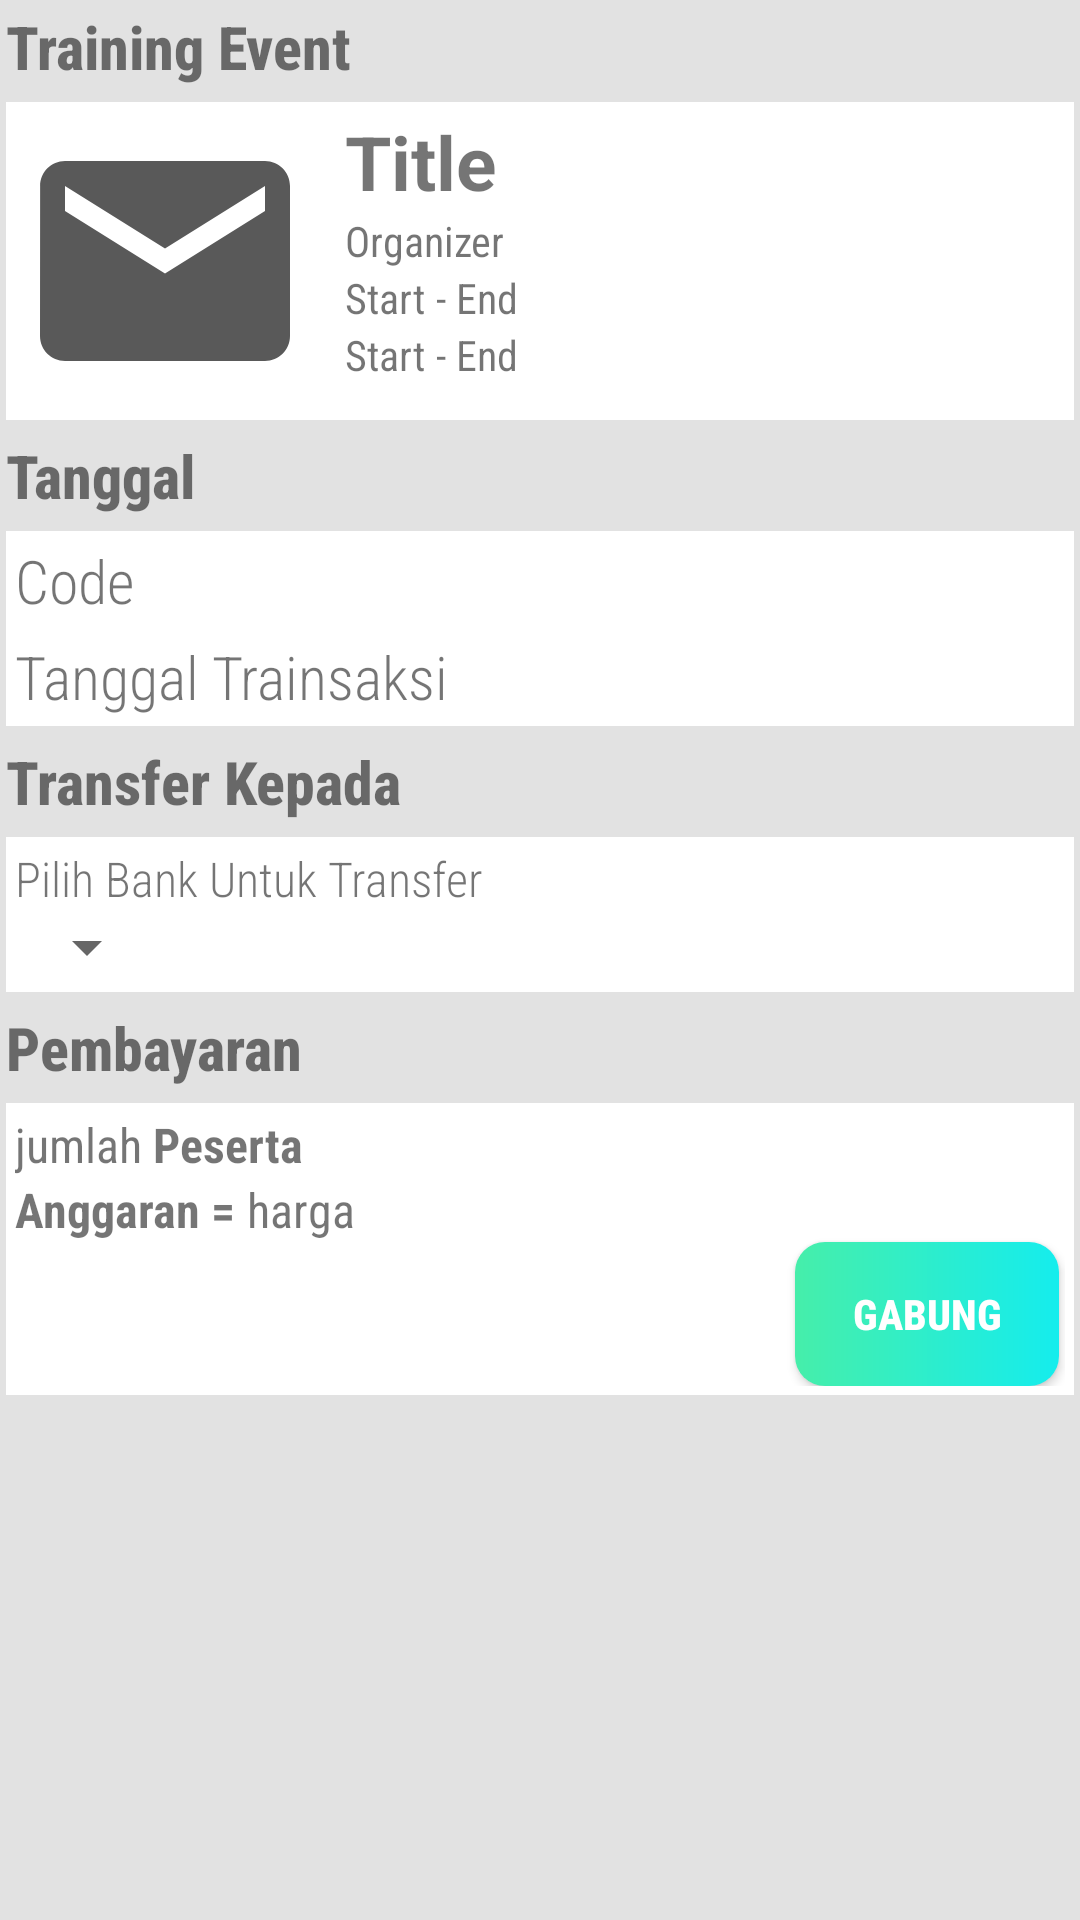

Screen size 1080 × 1920. Icon name, then its center in pixels as point (x, y):
email: point (165, 261)
